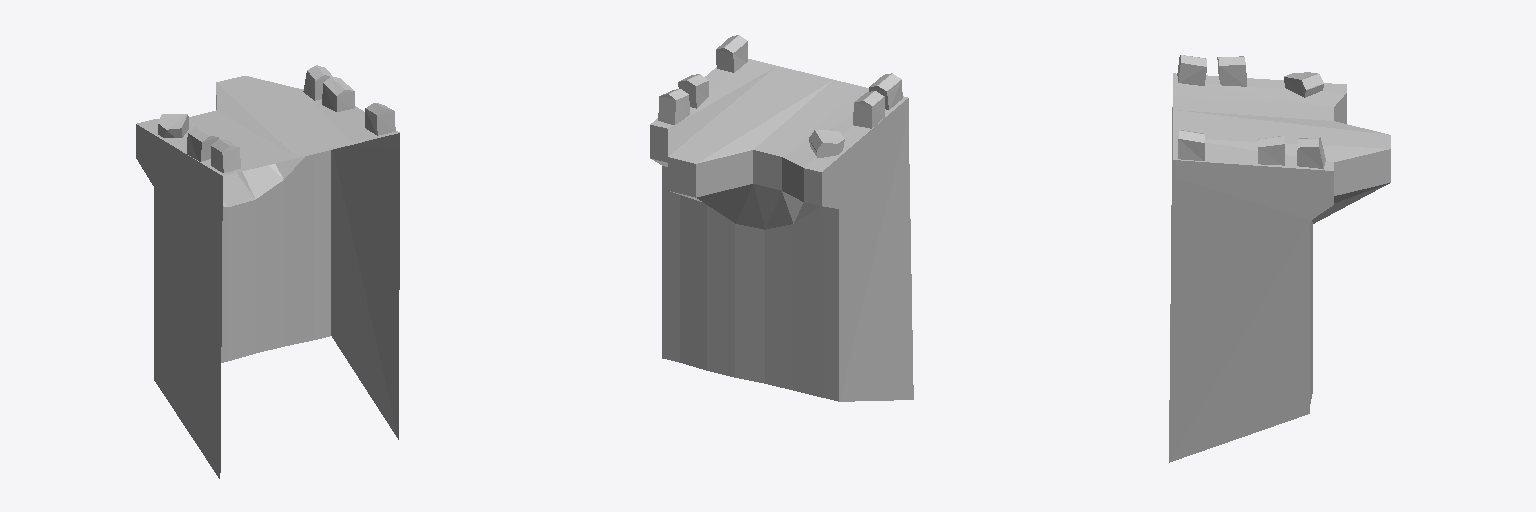
File: MDL_Great_Wall_End.obj
3 renders of one model, left to right at view 1: azimuth 30°, elevation 25°; view 2: azimuth 150°, elevation 25°; view 3: azimuth 270°, elevation 25°, orthographic.
Parts seen in each view (by area): view 1: MDL_Great_Wall_End; view 2: MDL_Great_Wall_End; view 3: MDL_Great_Wall_End.
Part boxes in pixels (bbox=[...]): MDL_Great_Wall_End: bbox=[136, 65, 399, 478]; MDL_Great_Wall_End: bbox=[650, 35, 913, 401]; MDL_Great_Wall_End: bbox=[1169, 55, 1390, 462].
Size of the model in its own units: 5.11 by 8.86 by 5.43.